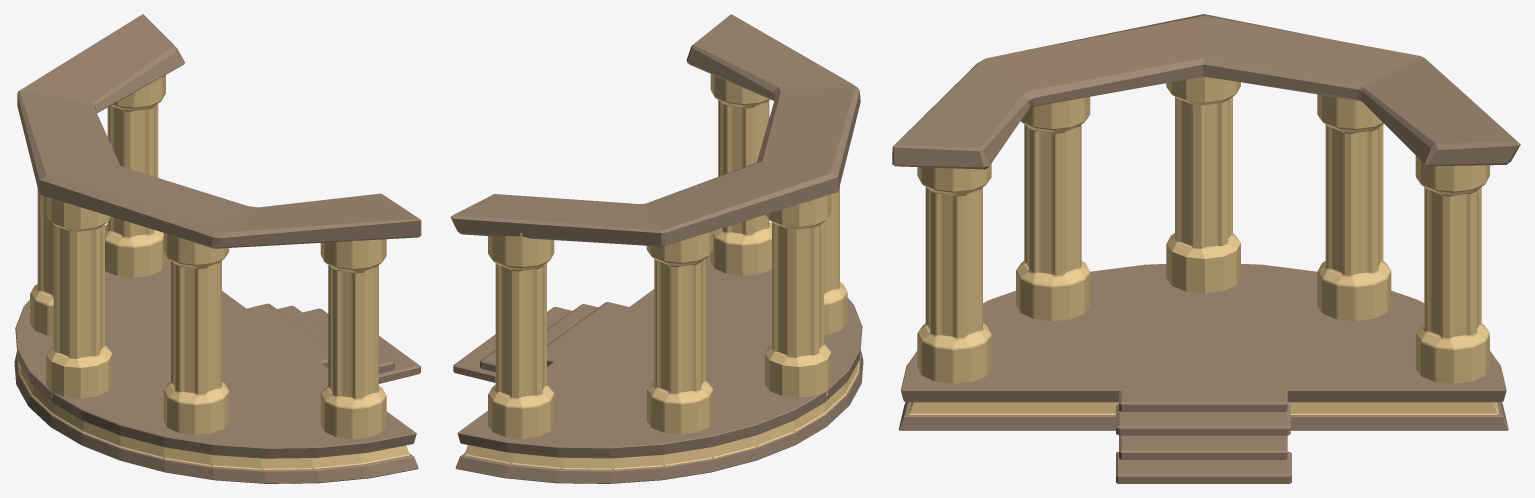
The model's file is altar_new_05_29.fbx.
3 views of the same model, side by side, from view 1: azimuth 30°, elevation 25°; view 2: azimuth 150°, elevation 25°; view 3: azimuth 270°, elevation 25° (orthographic). The views are drawn at different scales.
Visible parts, largest first — view 1: Cylinder, saeulen, Cylinder.002, saeulen.001, Cube.003, Cube, Cube.002, Cube.001; view 2: Cylinder, saeulen, Cylinder.002, saeulen.001, Cube.003, Cube, Cube.002, Cube.001; view 3: Cylinder, saeulen, Cylinder.002, saeulen.001, Cube, Cube.002, Cube.001, Cube.003.
Part boxes in pixels (x1=…): Cylinder: x1=14, y1=256, x2=418, y2=483; saeulen: x1=30, y1=75, x2=386, y2=438; Cylinder.002: x1=17, y1=14, x2=421, y2=248; saeulen.001: x1=46, y1=197, x2=112, y2=398; Cube.003: x1=247, y1=303, x2=328, y2=367; Cube: x1=379, y1=336, x2=420, y2=383; Cube.002: x1=277, y1=305, x2=328, y2=346; Cube.001: x1=303, y1=308, x2=394, y2=373; Cylinder: x1=455, y1=253, x2=863, y2=483; saeulen: x1=488, y1=74, x2=847, y2=438; Cylinder.002: x1=450, y1=14, x2=860, y2=246; saeulen.001: x1=764, y1=194, x2=831, y2=397; Cube.003: x1=547, y1=302, x2=628, y2=366; Cube: x1=453, y1=334, x2=495, y2=382; Cube.002: x1=547, y1=304, x2=598, y2=344; Cube.001: x1=480, y1=307, x2=572, y2=372; Cylinder: x1=898, y1=264, x2=1508, y2=430; saeulen: x1=917, y1=94, x2=1489, y2=383; Cylinder.002: x1=892, y1=14, x2=1520, y2=169; saeulen.001: x1=1166, y1=76, x2=1240, y2=293; Cube: x1=1116, y1=451, x2=1291, y2=483; Cube.002: x1=1116, y1=404, x2=1290, y2=435; Cube.001: x1=1119, y1=435, x2=1287, y2=459; Cube.003: x1=1119, y1=390, x2=1287, y2=411.
Size of the model in its own units: 4414 by 3136 by 6195.
